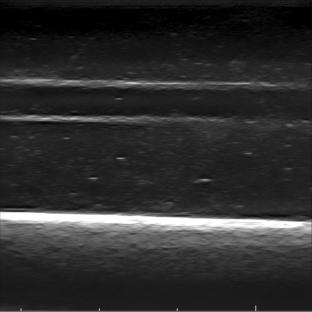vessel: (3, 79, 271, 126)
